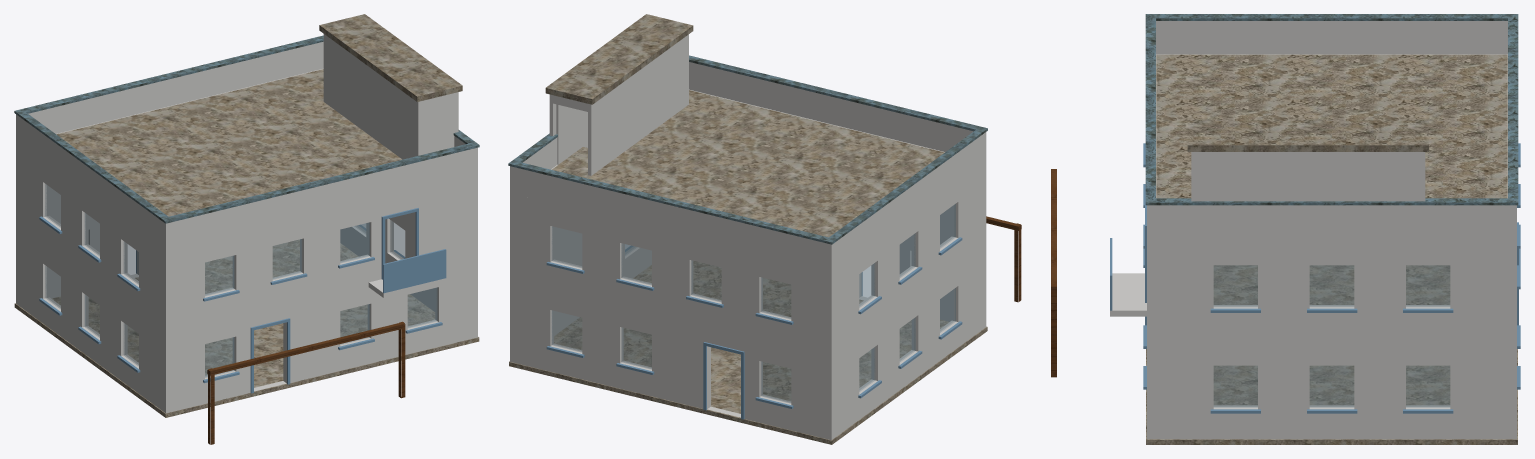
The model's file is bay-villa-white.glass-v3.lod1.glb.
3 views of the same model, side by side, from view 1: azimuth 30°, elevation 25°; view 2: azimuth 150°, elevation 25°; view 3: azimuth 270°, elevation 25° (orthographic). The views are drawn at different scales.
Visible parts, largest first — view 1: bay-villa-white; view 2: bay-villa-white; view 3: bay-villa-white.
Boxes of the visible parts, x1,y1,x2,y2 form: bay-villa-white: [14, 14, 479, 444]; bay-villa-white: [508, 14, 1021, 444]; bay-villa-white: [1051, 14, 1520, 444].
Size of the model in its own units: 12.2 by 8.96 by 12.72.
4 materials, 2 textured.
